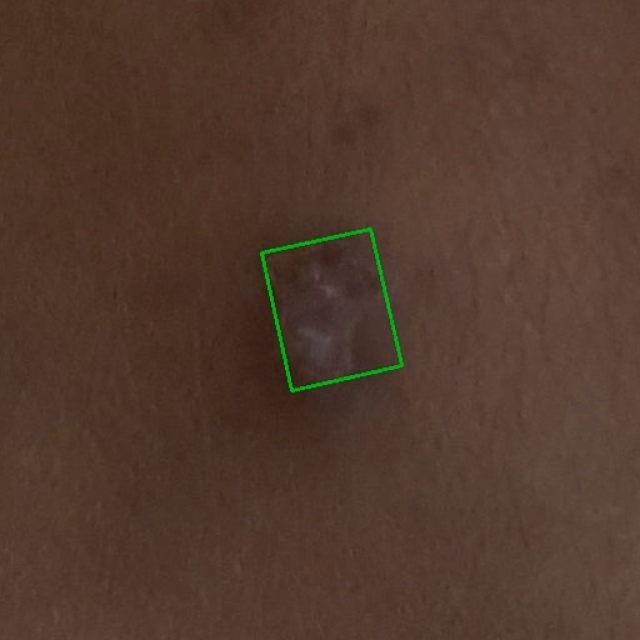Contact Dermatitis: (260, 229, 401, 391)
